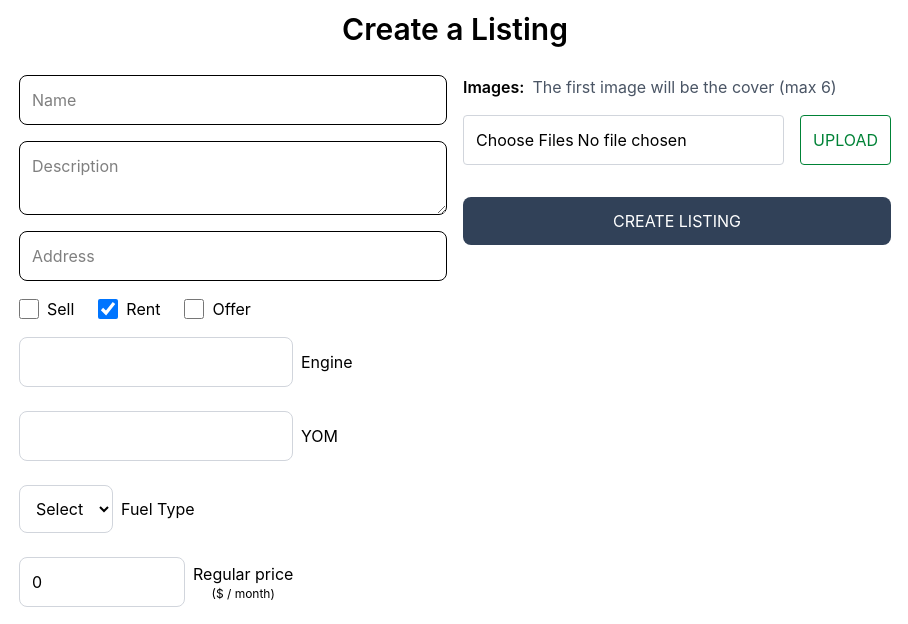
Test: checking Sale sets type to sale and unchecks Rent
The image size is (908, 624).
Check: the checkbox with id "rent" is checked, box [98,297,118,321]
Click the checkbox with id "sale".
click(29, 309)  # box [19,297,39,321]
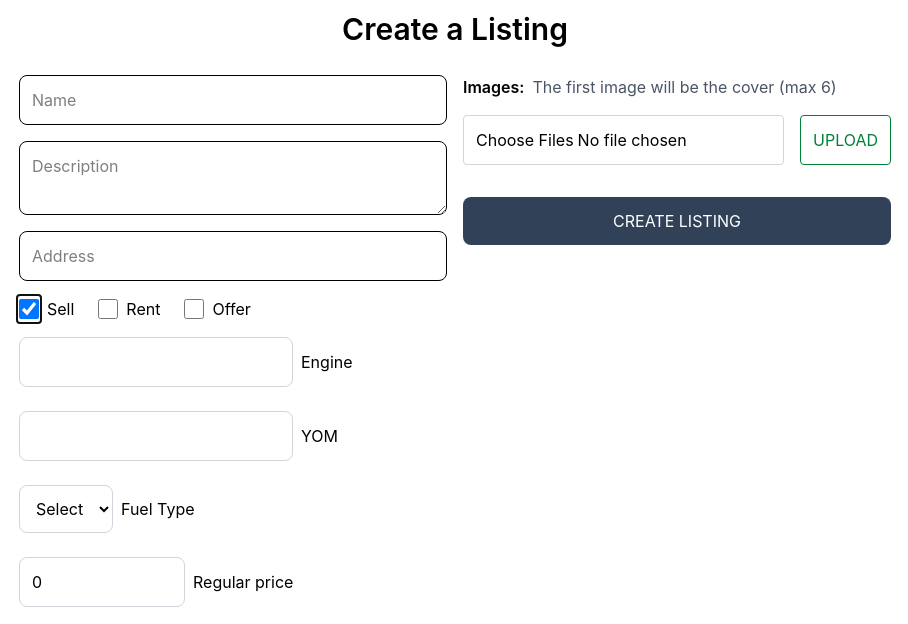
Check: the checkbox with id "sale" is checked, box [19,297,39,321]
Check: the checkbox with id "rent" is not checked, box [98,297,118,321]
